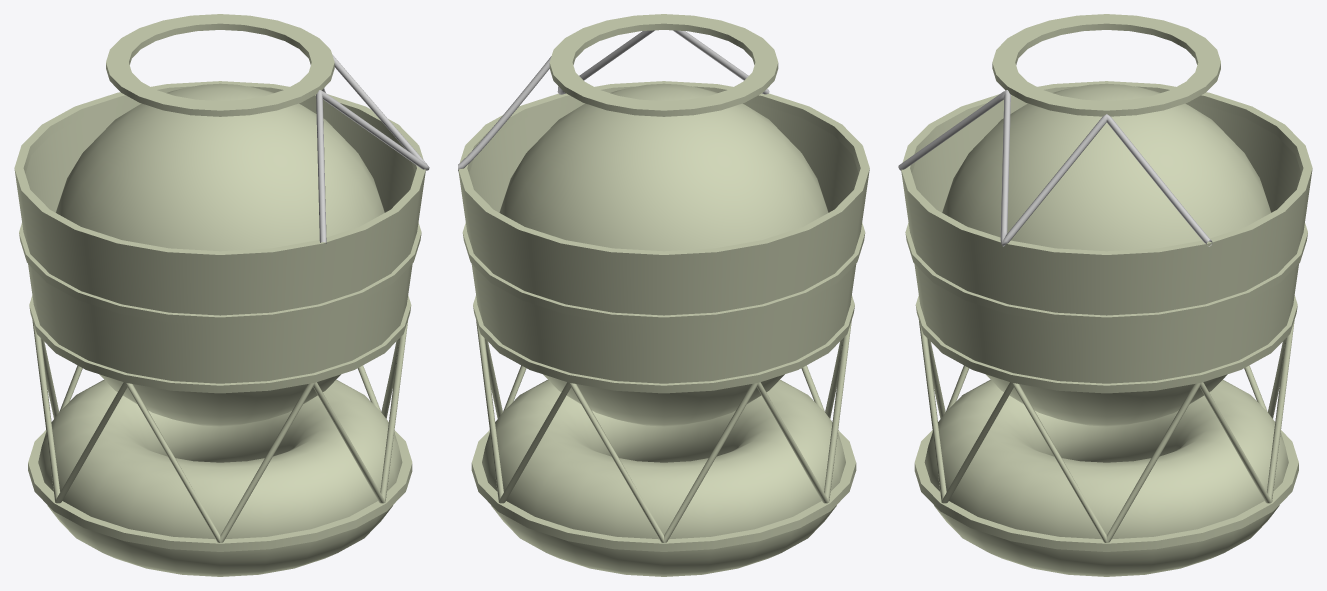
File: blender.obj
The picture shows the model from 3 angles, left to right: view 1: azimuth 30°, elevation 25°; view 2: azimuth 150°, elevation 25°; view 3: azimuth 270°, elevation 25°; orthographic projection.
Visible parts, largest first — view 1: sphere4, sphere4_sep3, sphere4_sep18, sphere4_sep5, sphere4_sep4, BezierCurve, sphere4_sep13, sphere4_sep17, sphere4_sep9, sphere4_sep16, sphere4_sep15, sphere4_sep12; view 2: sphere4, sphere4_sep3, sphere4_sep18, sphere4_sep5, sphere4_sep4, BezierCurve, sphere4_sep15, sphere4_sep10, sphere4_sep7, sphere4_sep11, sphere4_sep6, sphere4_sep9; view 3: sphere4, sphere4_sep3, sphere4_sep18, sphere4_sep5, sphere4_sep4, BezierCurve, sphere4_sep6, sphere4_sep8, sphere4_sep12, sphere4_sep14, sphere4_sep13, sphere4_sep7.
Boxes of the visible parts, x1=… form: sphere4: x1=14, y1=81, x2=425, y2=393; sphere4_sep3: x1=38, y1=379, x2=402, y2=576; sphere4_sep18: x1=56, y1=83, x2=384, y2=426; sphere4_sep5: x1=106, y1=14, x2=334, y2=116; sphere4_sep4: x1=28, y1=430, x2=412, y2=551; BezierCurve: x1=316, y1=54, x2=429, y2=243; sphere4_sep13: x1=380, y1=321, x2=407, y2=502; sphere4_sep17: x1=220, y1=383, x2=314, y2=542; sphere4_sep9: x1=32, y1=320, x2=60, y2=501; sphere4_sep16: x1=126, y1=383, x2=220, y2=542; sphere4_sep15: x1=55, y1=382, x2=127, y2=503; sphere4_sep12: x1=313, y1=382, x2=385, y2=503; sphere4: x1=458, y1=81, x2=869, y2=393; sphere4_sep3: x1=482, y1=380, x2=845, y2=576; sphere4_sep18: x1=499, y1=83, x2=828, y2=426; sphere4_sep5: x1=549, y1=14, x2=778, y2=116; sphere4_sep4: x1=471, y1=430, x2=856, y2=551; BezierCurve: x1=458, y1=30, x2=769, y2=171; sphere4_sep15: x1=824, y1=320, x2=851, y2=501; sphere4_sep10: x1=664, y1=383, x2=757, y2=542; sphere4_sep7: x1=476, y1=320, x2=503, y2=501; sphere4_sep11: x1=570, y1=383, x2=663, y2=542; sphere4_sep6: x1=499, y1=382, x2=570, y2=503; sphere4_sep9: x1=757, y1=382, x2=828, y2=503; sphere4: x1=901, y1=81, x2=1312, y2=393; sphere4_sep3: x1=924, y1=379, x2=1288, y2=576; sphere4_sep18: x1=942, y1=83, x2=1271, y2=426; sphere4_sep5: x1=992, y1=14, x2=1220, y2=116; sphere4_sep4: x1=914, y1=430, x2=1298, y2=551; BezierCurve: x1=898, y1=90, x2=1212, y2=246; sphere4_sep6: x1=1267, y1=320, x2=1294, y2=502; sphere4_sep8: x1=1106, y1=383, x2=1200, y2=542; sphere4_sep12: x1=919, y1=321, x2=946, y2=501; sphere4_sep14: x1=1012, y1=383, x2=1106, y2=542; sphere4_sep13: x1=941, y1=382, x2=1013, y2=503; sphere4_sep7: x1=1199, y1=382, x2=1271, y2=503.
Size of the model in its own units: 2.25 by 2.75 by 2.26.
